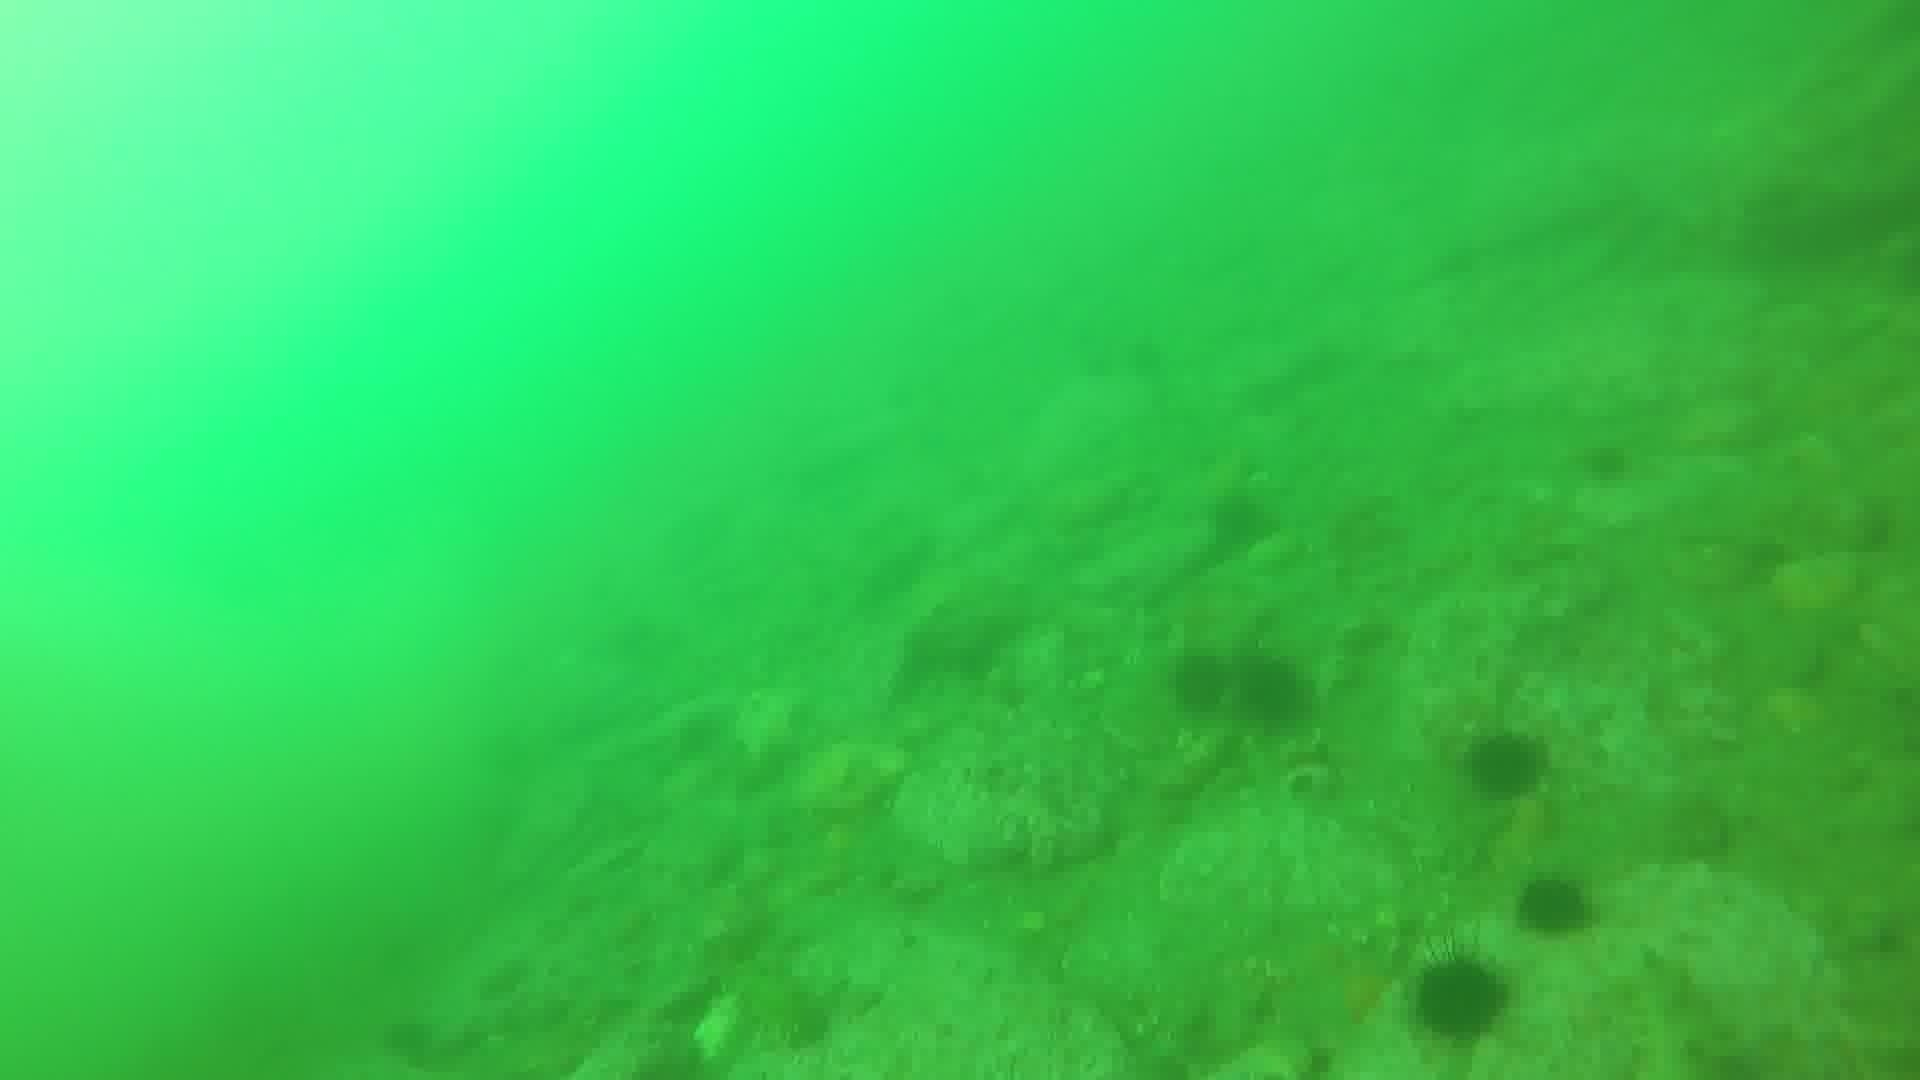echinus: (1406, 949, 1515, 1048), (1226, 647, 1315, 735), (1460, 727, 1551, 804), (1511, 870, 1600, 942), (1164, 645, 1238, 721), (1576, 436, 1638, 491)
holothurian: (1614, 945, 1741, 1079)
starfish: (1275, 942, 1396, 1054)
